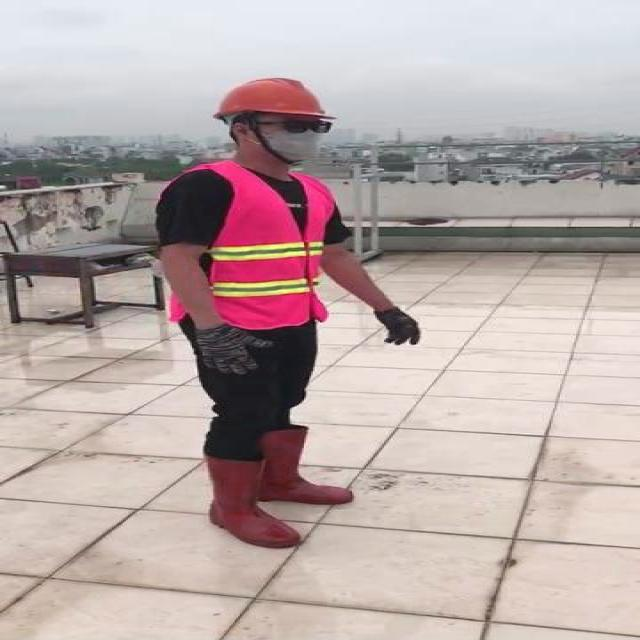boots: (212, 453, 302, 551), (260, 430, 354, 506)
glasses: (271, 115, 341, 138)
hand_glove: (194, 328, 274, 374), (370, 308, 420, 345)
head_helmet: (212, 72, 332, 126)
person: (136, 54, 436, 562)
vest: (165, 164, 338, 327)
